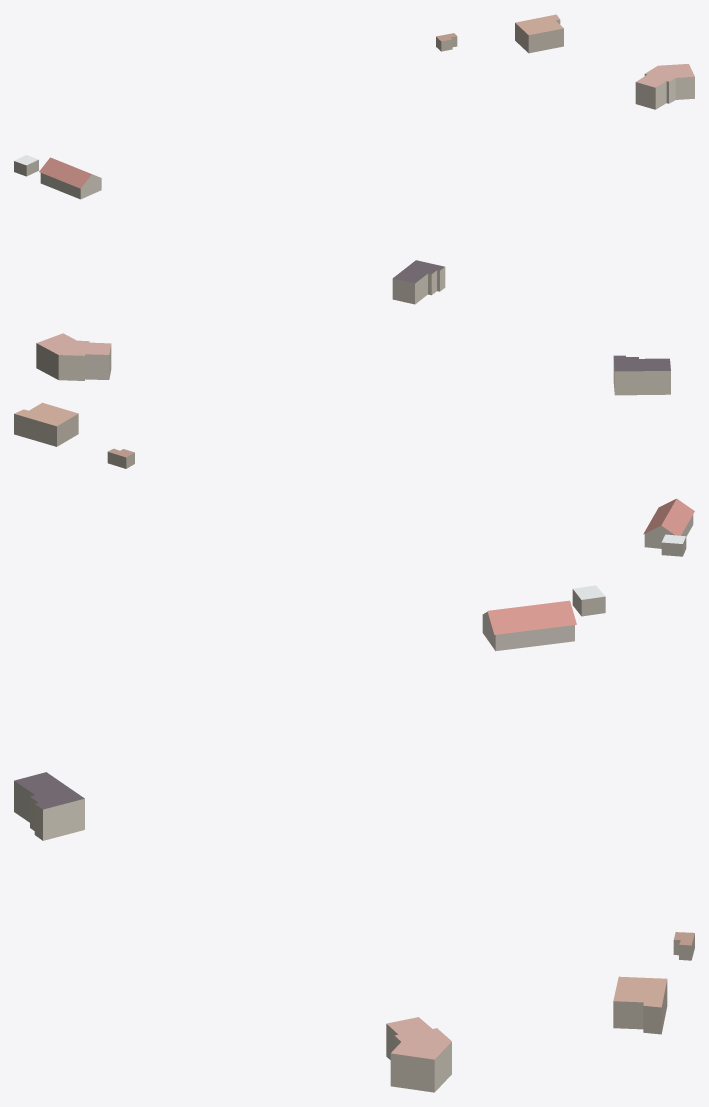
3 views of the same model, one above another, from view 1: azimuth 30°, elevation 25°; view 2: azimuth 150°, elevation 25°; view 3: azimuth 270°, elevation 25° (orthographic). The views are drawn at different scales.
Visible parts, largest first — view 1: tuile; view 2: tuile; view 3: tuile.
Boxes of the visible parts, x1,y1,x2,y2 form: tuile: [14, 14, 694, 304]; tuile: [14, 333, 694, 556]; tuile: [14, 585, 694, 1092].
Size of the model in its own units: 222 by 18.56 by 141.
